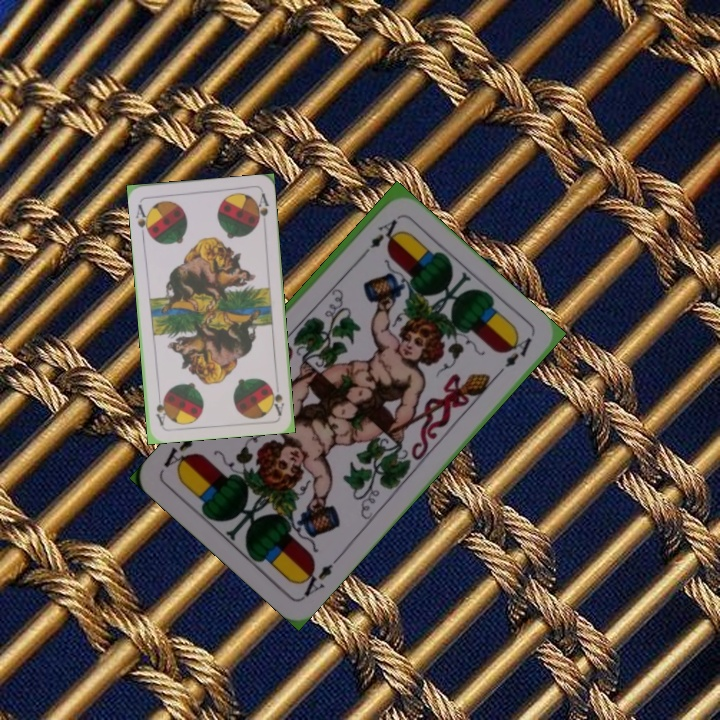EA: (295, 552, 342, 601), (355, 215, 401, 262)
SA: (132, 200, 153, 239), (267, 377, 286, 417)
